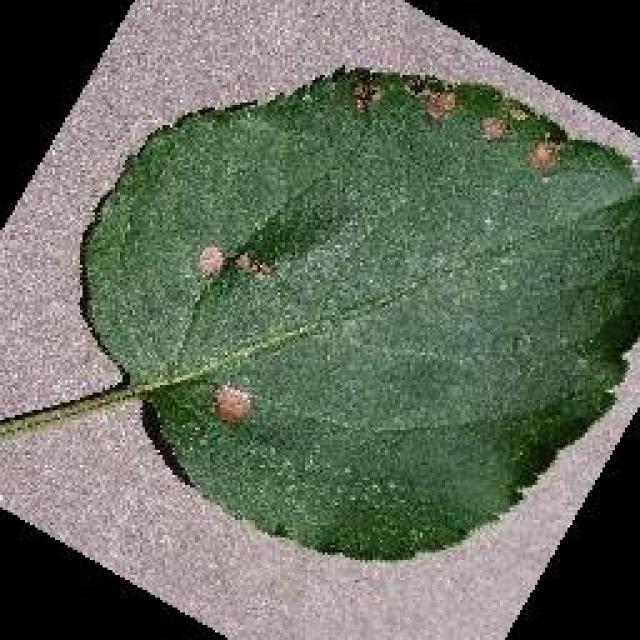Black_rot: (75, 62, 637, 560)
